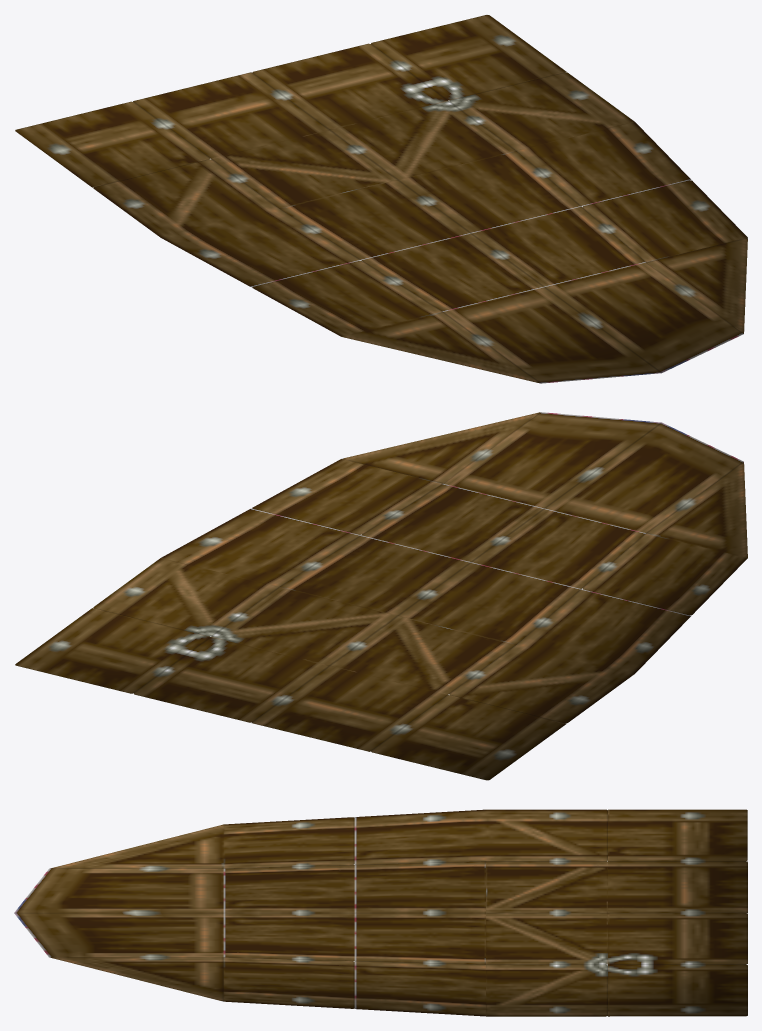
3 views of the same model, one above another, from view 1: azimuth 30°, elevation 25°; view 2: azimuth 150°, elevation 25°; view 3: azimuth 270°, elevation 25° (orthographic). The views are drawn at different scales.
Parts seen in each view (by area): view 1: T1L7M004_17; view 2: T1L7M004_17; view 3: T1L7M004_17.
Boxes of the visible parts, left/top/right/bottom form: T1L7M004_17: left=15, top=15, right=747, bottom=383; T1L7M004_17: left=15, top=412, right=747, bottom=780; T1L7M004_17: left=14, top=809, right=747, bottom=1016.
Size of the model in its own units: 2.8 by 0.000977 by 4.2.
